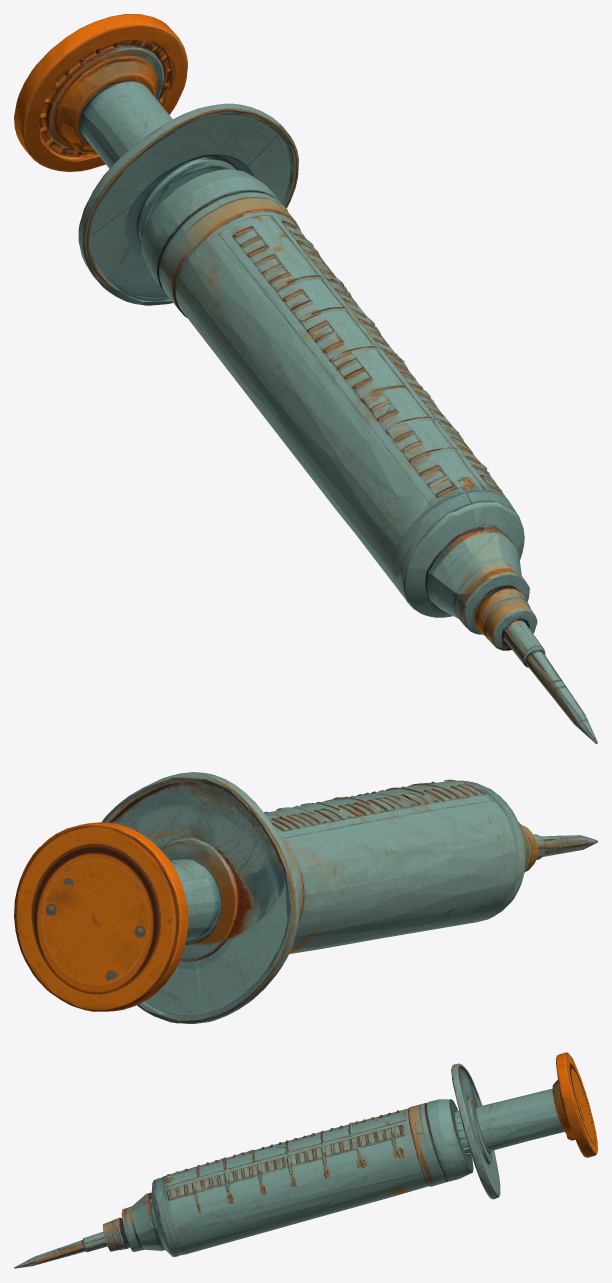
The picture shows the model from 3 angles, top to bottom: view 1: azimuth 30°, elevation 25°; view 2: azimuth 150°, elevation 25°; view 3: azimuth 270°, elevation 25°; orthographic projection. The views are drawn at different scales.
Size of the model in its own units: 0.4564 by 0.7576 by 1.9.
1 material, 1 textured.
